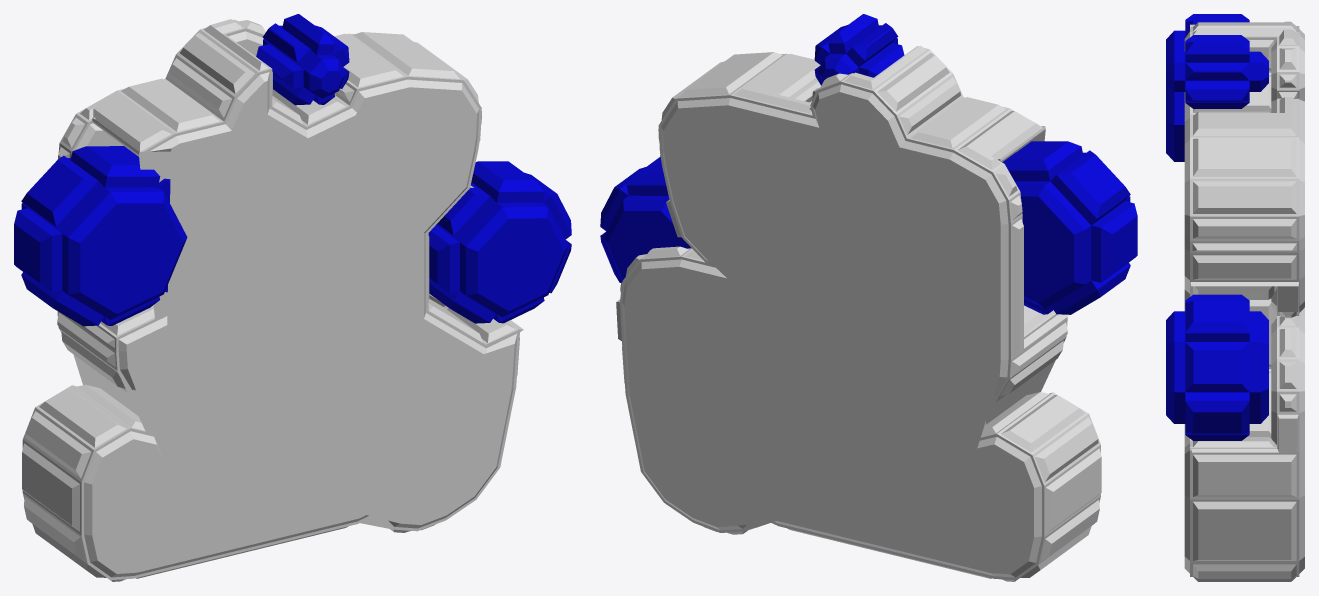
Rendered from Ch_China_岛_01.fbx.
3 renders of one model, left to right at view 1: azimuth 30°, elevation 25°; view 2: azimuth 150°, elevation 25°; view 3: azimuth 270°, elevation 25°, orthographic. The views are drawn at different scales.
Parts seen in each view (by area): view 1: sphere1; view 2: sphere1; view 3: sphere1.
Part boxes in pixels (box(x1,y1,x2,y2)): sphere1: box(14, 14, 571, 581); sphere1: box(600, 14, 1137, 581); sphere1: box(1166, 14, 1304, 581).
Bounding box in the file's own units: 1.04 × 0.9818 × 0.2541.
